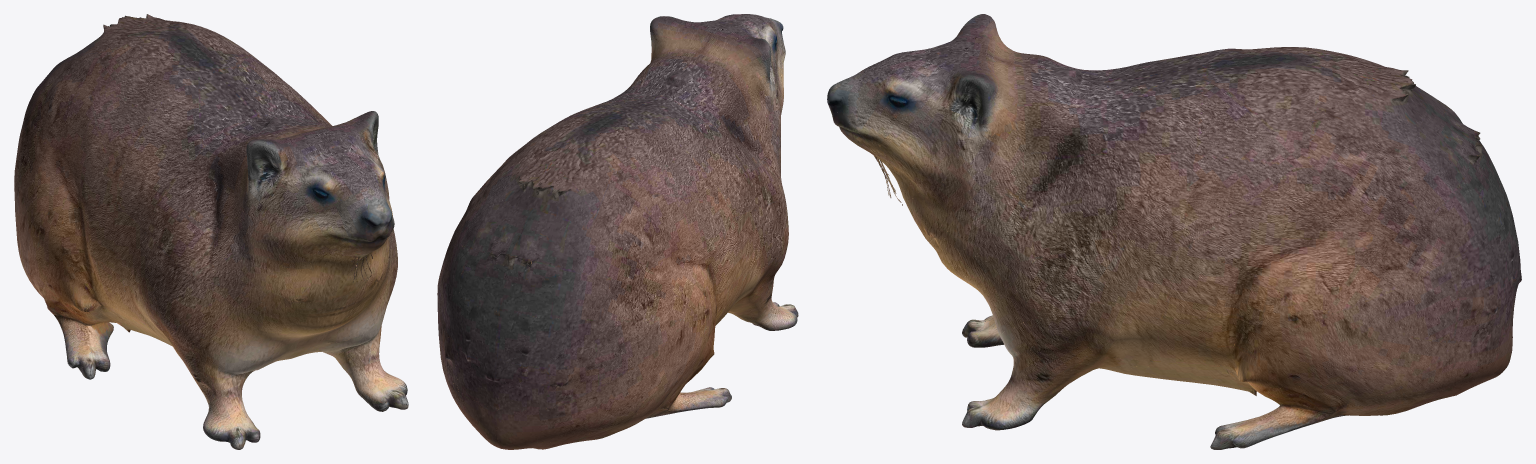
The model's file is modelo01.glb.
The picture shows the model from 3 angles, left to right: view 1: azimuth 30°, elevation 25°; view 2: azimuth 150°, elevation 25°; view 3: azimuth 270°, elevation 25°; orthographic projection. The views are drawn at different scales.
Visible parts, largest first — view 1: mesh_0; view 2: mesh_0; view 3: mesh_0.
Part boxes in pixels (left/top/right/bottom): mesh_0: left=14, top=14, right=408, bottom=449; mesh_0: left=437, top=14, right=798, bottom=449; mesh_0: left=827, top=14, right=1521, bottom=449.
Size of the model in its own units: 0.953 by 1.02 by 1.9.
Materials: 1 (1 with a texture image).
